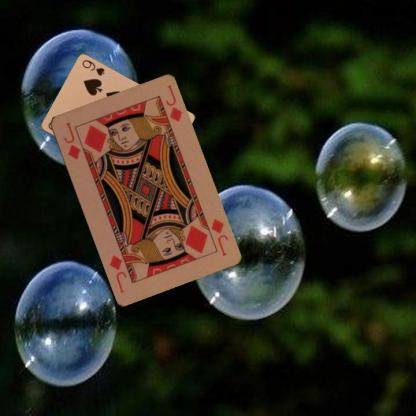Jd: (61, 120, 82, 162), (208, 215, 229, 257)
